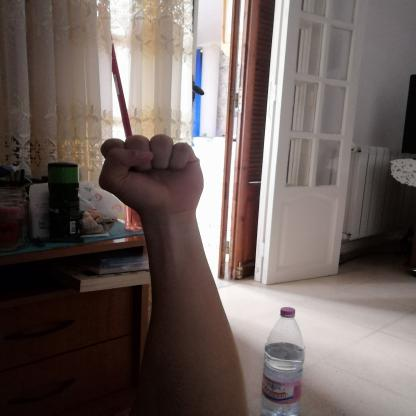SAD: (79, 122, 234, 226)
